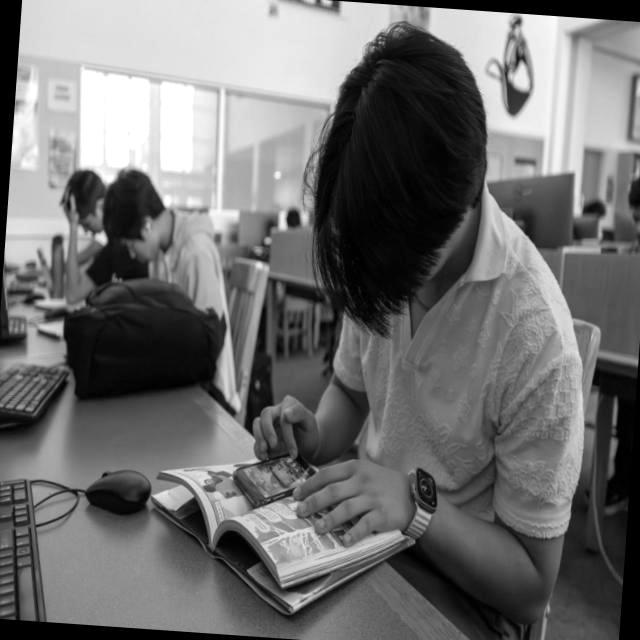phone: (229, 447, 321, 514)
